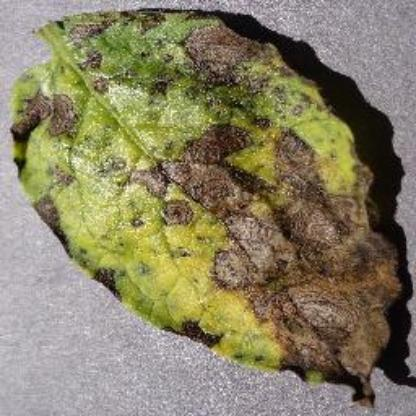Early-Blight: (11, 9, 399, 403)
